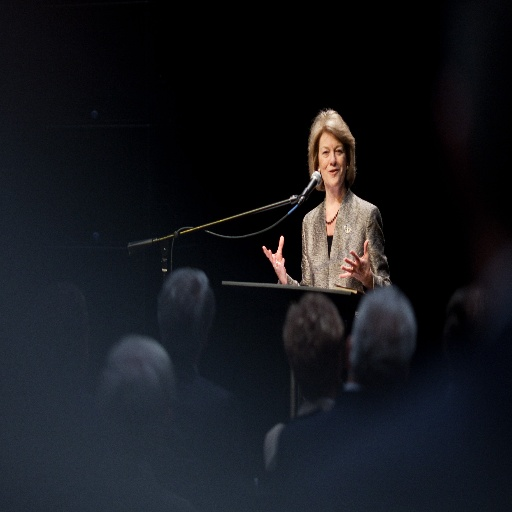hand: (337, 238, 374, 283), (263, 237, 296, 284)
